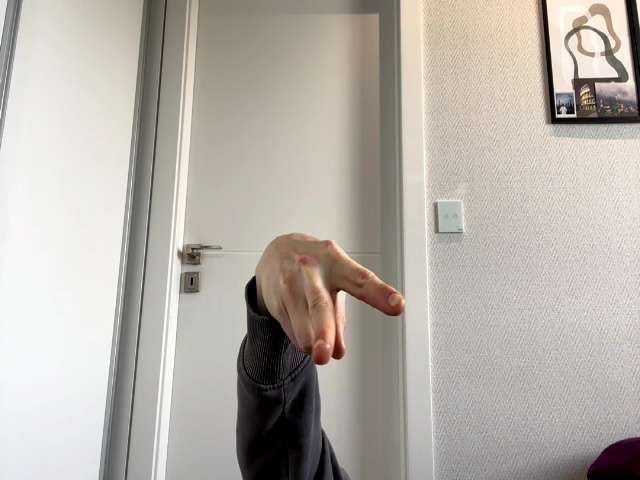U: (256, 233, 405, 365)
